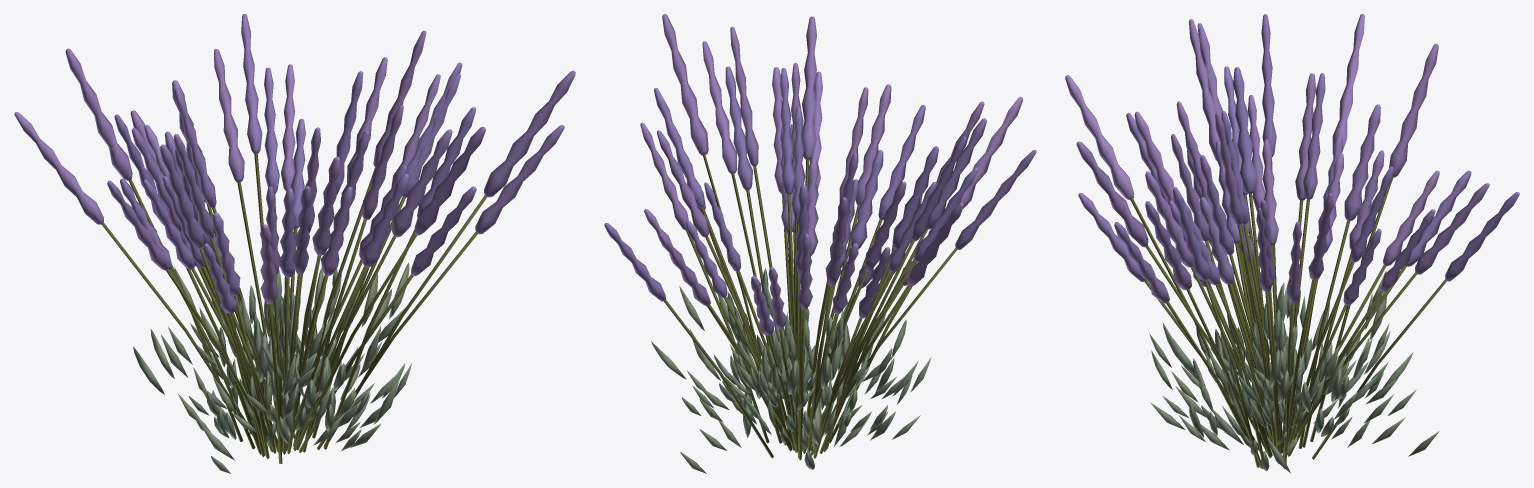
File: bed_lavender.glb
The picture shows the model from 3 angles, left to right: view 1: azimuth 30°, elevation 25°; view 2: azimuth 150°, elevation 25°; view 3: azimuth 270°, elevation 25°; orthographic projection. The views are drawn at different scales.
Visible parts, largest first — view 1: Sammel Pflanze, Sammel Putz; view 2: Sammel Pflanze, Sammel Putz; view 3: Sammel Pflanze, Sammel Putz.
Boxes of the visible parts, left/top/right/bottom form: Sammel Pflanze: left=14, top=14, right=575, bottom=473; Sammel Putz: left=101, top=153, right=487, bottom=463; Sammel Pflanze: left=604, top=14, right=1036, bottom=473; Sammel Putz: left=664, top=154, right=957, bottom=460; Sammel Pflanze: left=1065, top=14, right=1519, bottom=473; Sammel Putz: left=1130, top=158, right=1446, bottom=469.
Bounding box in the file's own units: 0.578 × 0.5138 × 0.5412.
